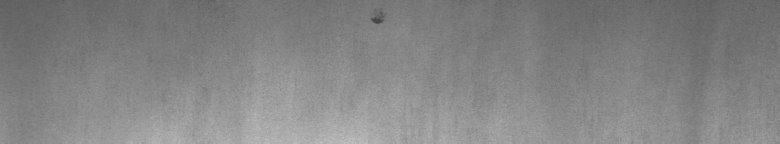fi: (368, 11, 386, 32)
